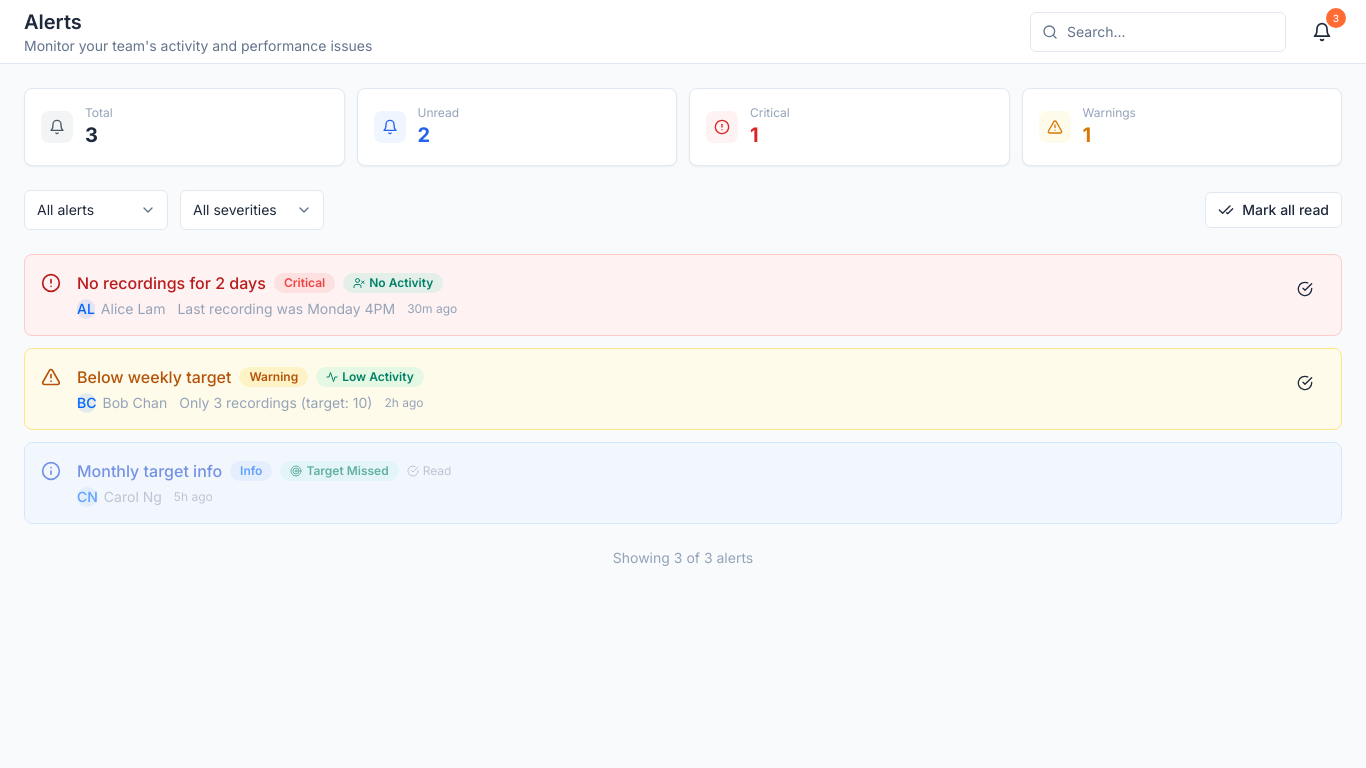
Test case: AlertsPage › filtering › filters to unread only
This screenshot has width=1366, height=768.
Select "Unread only" in the dropdown with test id "read-filter" at x=96, y=210, box [24, 190, 168, 230]
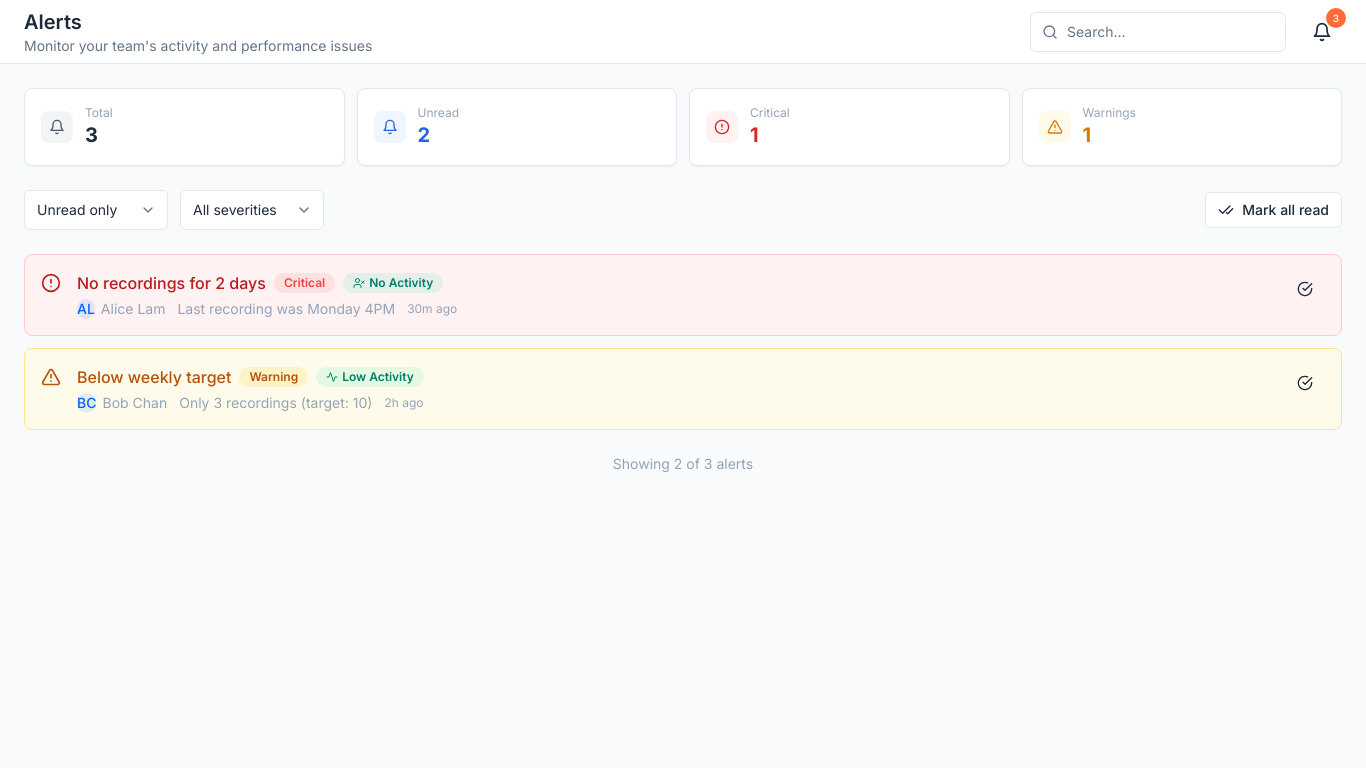
Expected: the number of elements with test id "alert-card" is 2, [24, 254, 1342, 336]; [24, 348, 1342, 430]
